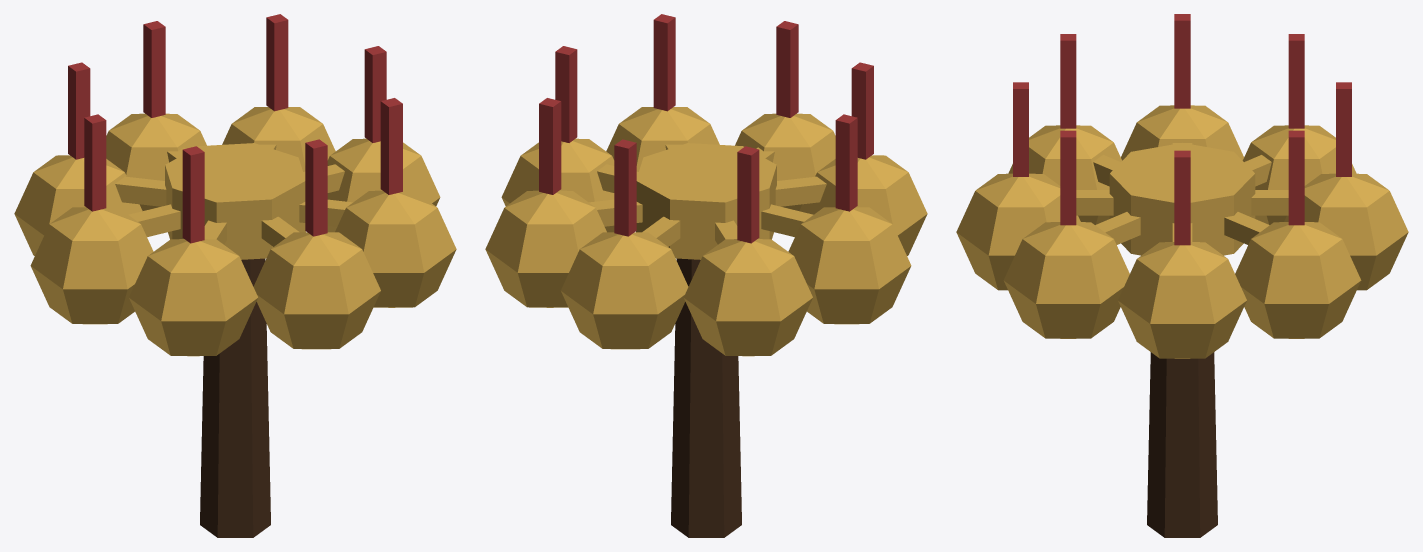
The model's file is prop_bangul.glb.
3 renders of one model, left to right at view 1: azimuth 30°, elevation 25°; view 2: azimuth 150°, elevation 25°; view 3: azimuth 270°, elevation 25°, orthographic.
Visible parts, largest first — view 1: prop_bangul; view 2: prop_bangul; view 3: prop_bangul.
Part boxes in pixels (x1,y1,x2,y2): prop_bangul: [14, 14, 456, 537]; prop_bangul: [485, 14, 927, 537]; prop_bangul: [956, 14, 1408, 537].
Bounding box in the file's own units: 0.2693 × 0.3 × 0.28.
